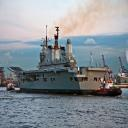Portanaves: (8, 25, 108, 94)
